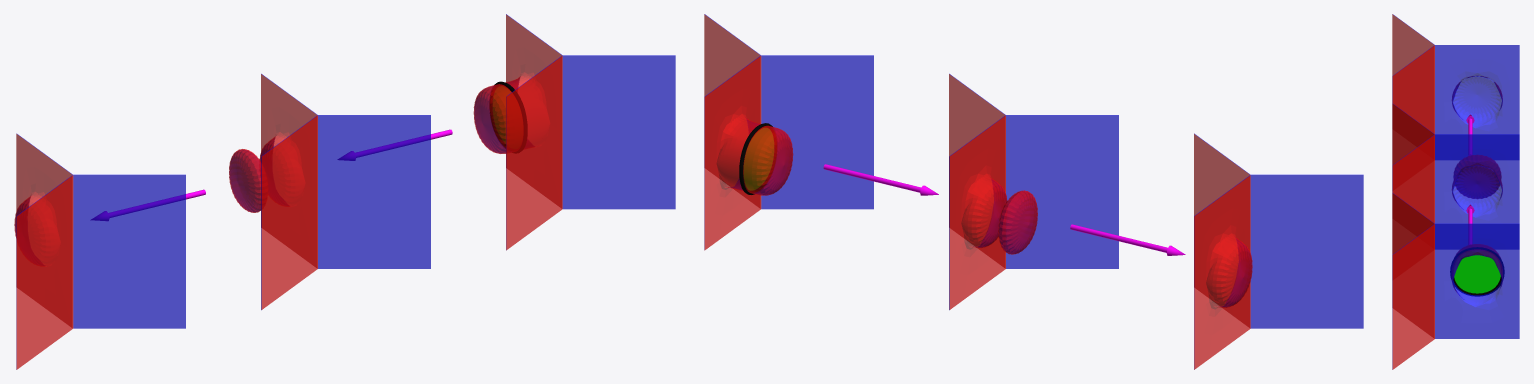
Rendered from reducedcompression.glb.
3 views of the same model, side by side, from view 1: azimuth 30°, elevation 25°; view 2: azimuth 150°, elevation 25°; view 3: azimuth 270°, elevation 25° (orthographic). The views are drawn at different scales.
Visible parts, largest first — view 1: Circle, Circle.001, Circle.002, NurbsPath, NurbsPath.001, Circle.004, Circle.003; view 2: Circle.002, Circle.001, Circle, Circle.004, NurbsPath.001, NurbsPath, Circle.003; view 3: Circle, Circle.001, Circle.002, Circle.004, Circle.003, NurbsPath.001, NurbsPath.
Part boxes in pixels (x1,y1,x2,y2): Circle: [473, 14, 675, 250]; Circle.001: [229, 73, 430, 310]; Circle.002: [14, 133, 185, 369]; NurbsPath: [338, 129, 452, 160]; NurbsPath.001: [91, 189, 205, 220]; Circle.004: [493, 86, 510, 143]; Circle.003: [490, 81, 527, 153]; Circle.002: [1194, 133, 1363, 369]; Circle.001: [949, 73, 1118, 310]; Circle: [704, 14, 873, 250]; Circle.004: [744, 128, 773, 190]; NurbsPath.001: [1070, 224, 1185, 255]; NurbsPath: [823, 164, 938, 195]; Circle.003: [739, 123, 776, 194]; Circle: [1392, 193, 1519, 369]; Circle.001: [1392, 103, 1519, 253]; Circle.002: [1392, 14, 1519, 164]; Circle.004: [1454, 255, 1500, 293]; Circle.003: [1450, 247, 1504, 296]; NurbsPath.001: [1466, 114, 1474, 155]; NurbsPath: [1466, 204, 1474, 244].
Bounding box in the file's own units: 6.73 × 1.5 × 1.5.
